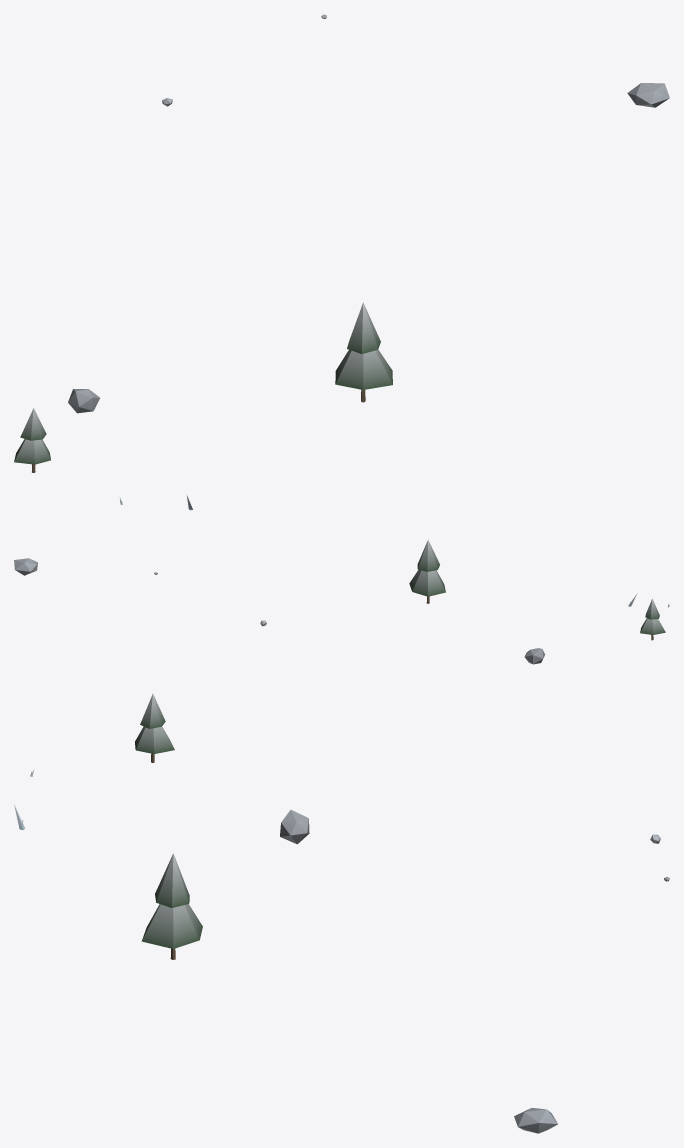
File: frost_land_scatter_c13_13_lod1.glb
3 renders of one model, top to bottom at view 1: azimuth 30°, elevation 25°; view 2: azimuth 150°, elevation 25°; view 3: azimuth 270°, elevation 25°, orthographic. The views are drawn at different scales.
Visible parts, largest first — view 1: frost_land_scatter_c13_13_lod1; view 2: frost_land_scatter_c13_13_lod1; view 3: frost_land_scatter_c13_13_lod1.
Part boxes in pixels (x1=…): frost_land_scatter_c13_13_lod1: x1=14, y1=14, x2=669, y2=510; frost_land_scatter_c13_13_lod1: x1=14, y1=539, x2=669, y2=664; frost_land_scatter_c13_13_lod1: x1=14, y1=694, x2=669, y2=1133.
Size of the model in its own units: 116 by 22.6 by 73.94.
